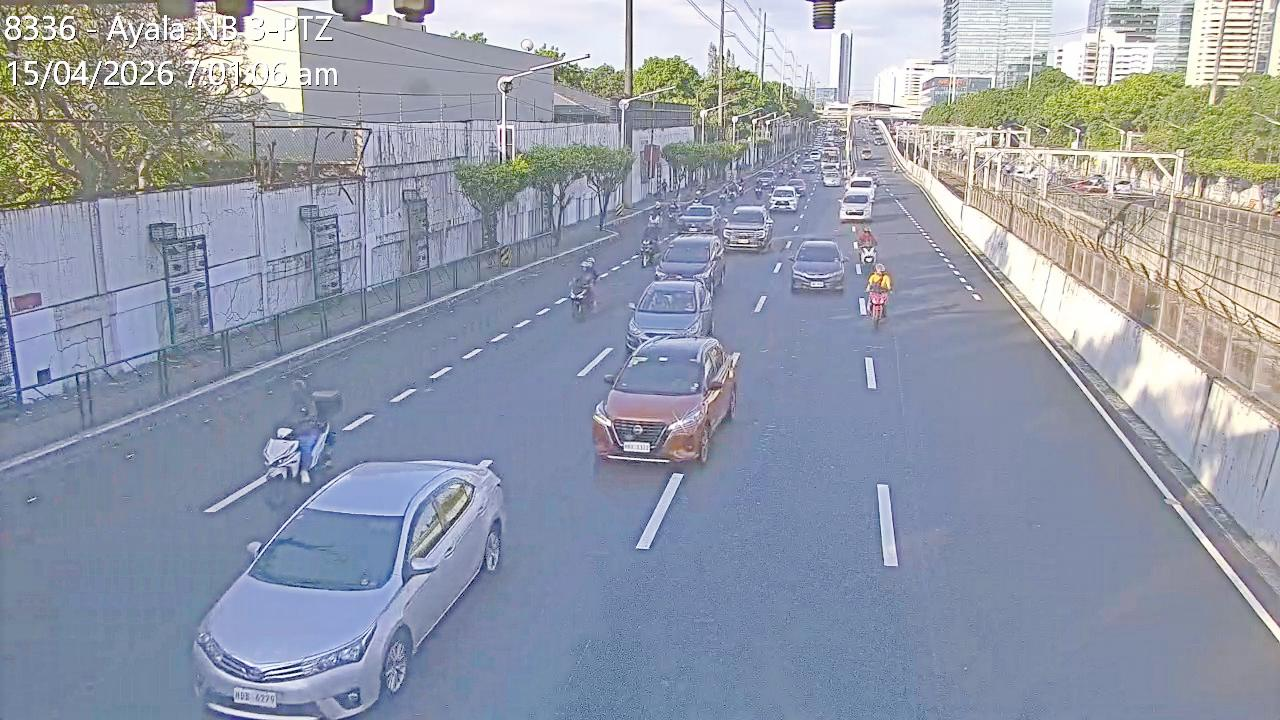Car: (196, 462, 508, 720), (589, 336, 739, 469), (633, 278, 716, 356), (655, 233, 728, 295), (790, 236, 846, 300), (720, 204, 776, 252), (676, 202, 724, 234), (839, 189, 876, 224), (768, 184, 801, 212), (845, 175, 876, 198), (751, 170, 778, 194), (785, 177, 808, 198), (821, 164, 842, 186), (801, 160, 818, 174), (808, 150, 822, 164), (860, 148, 874, 160), (874, 137, 886, 146)
Motor: (252, 389, 332, 495), (641, 200, 688, 264), (570, 256, 596, 324), (860, 269, 890, 327), (639, 222, 662, 266), (290, 378, 314, 420), (856, 224, 878, 263), (664, 200, 681, 226), (649, 204, 663, 232), (718, 185, 736, 204), (672, 184, 686, 204), (777, 165, 792, 182), (694, 187, 704, 202), (793, 153, 802, 166)
Not Accident: (608, 279, 730, 464), (628, 228, 726, 344), (640, 199, 723, 288), (752, 166, 807, 216), (840, 173, 876, 224)
